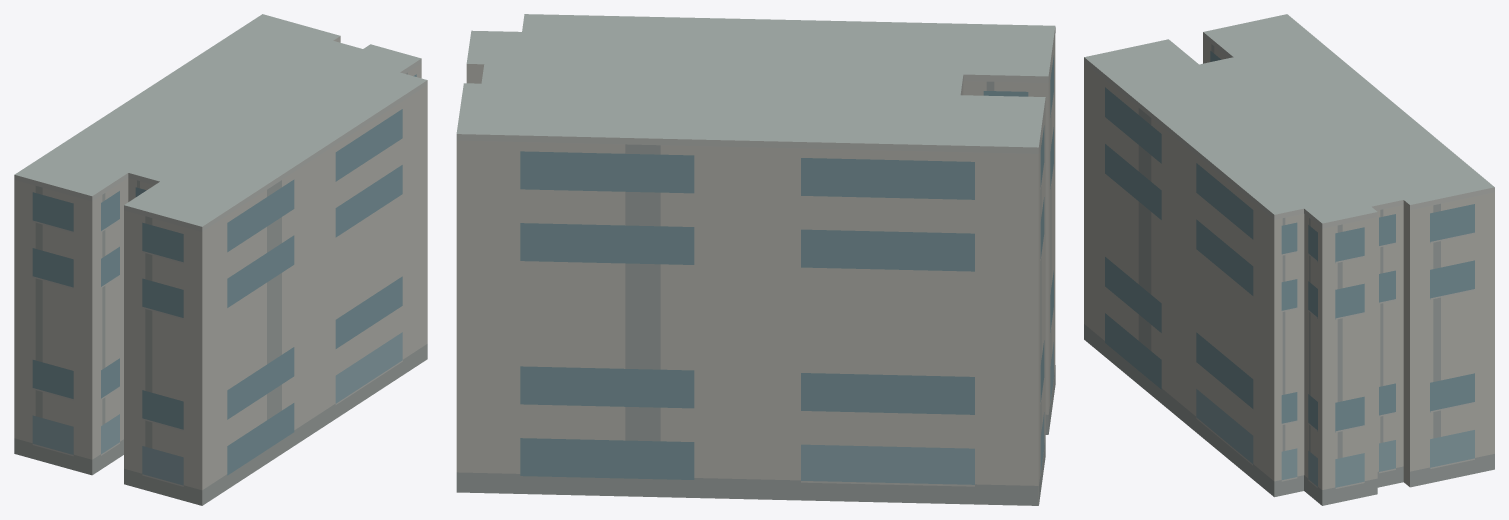
Rendered from survey-upis-32846452.glb.
3 renders of one model, left to right at view 1: azimuth 30°, elevation 25°; view 2: azimuth 150°, elevation 25°; view 3: azimuth 270°, elevation 25°, orthographic. The views are drawn at different scales.
Visible parts, largest first — view 1: survey-upis-32846452.tmp; view 2: survey-upis-32846452.tmp; view 3: survey-upis-32846452.tmp.
Boxes of the visible parts, x1,y1,x2,y2 form: survey-upis-32846452.tmp: [14, 14, 427, 505]; survey-upis-32846452.tmp: [456, 14, 1055, 505]; survey-upis-32846452.tmp: [1084, 14, 1494, 505].
Size of the model in its own units: 21.34 by 13.4 by 17.68.
